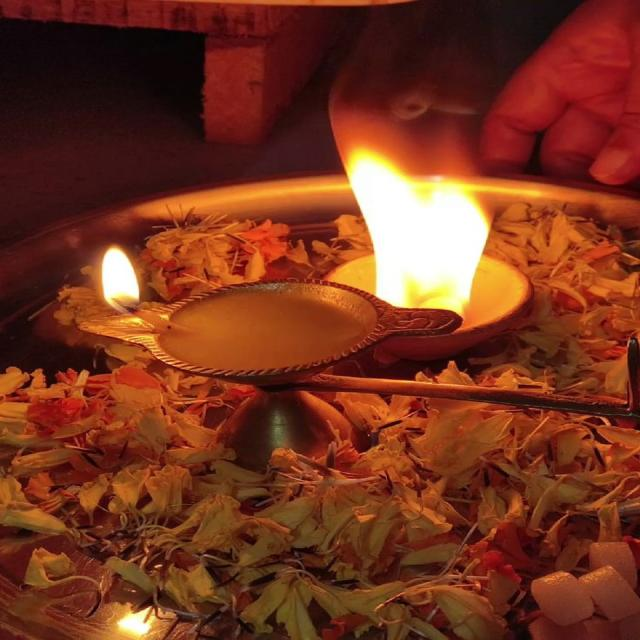fire: (347, 152, 490, 315), (100, 245, 143, 315)
